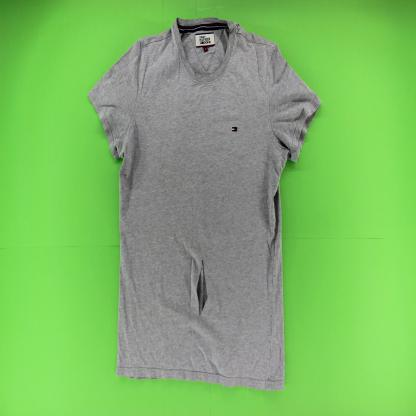hole: (195, 257, 209, 318)
